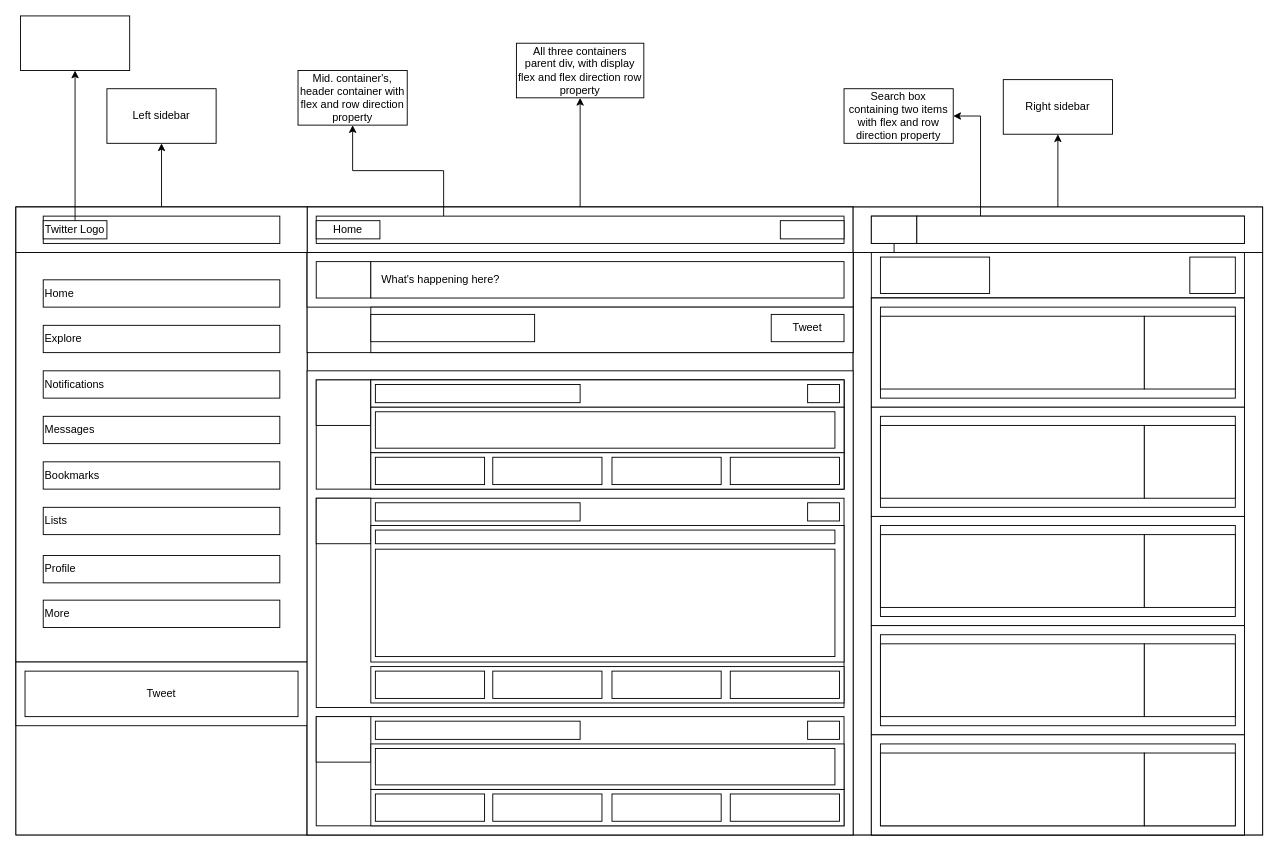
Some shapes in this 1279 by 851 pixel diagram are drawn without their labels. The shapes that lost their labels are listed below. From the top down, each one's box as (x1, y1, x2, y2) in pixels, then its label:
(20, 15, 130, 71): Logo
(916, 215, 1244, 243): Search Twitter
(880, 256, 990, 293): What's happening?
